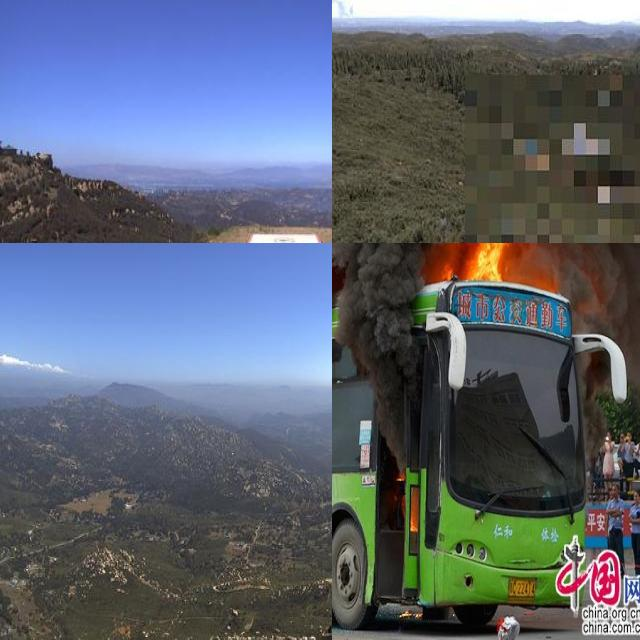fire: (460, 243, 561, 290)
smoke: (337, 254, 418, 464), (571, 256, 640, 409), (332, 0, 354, 18)
